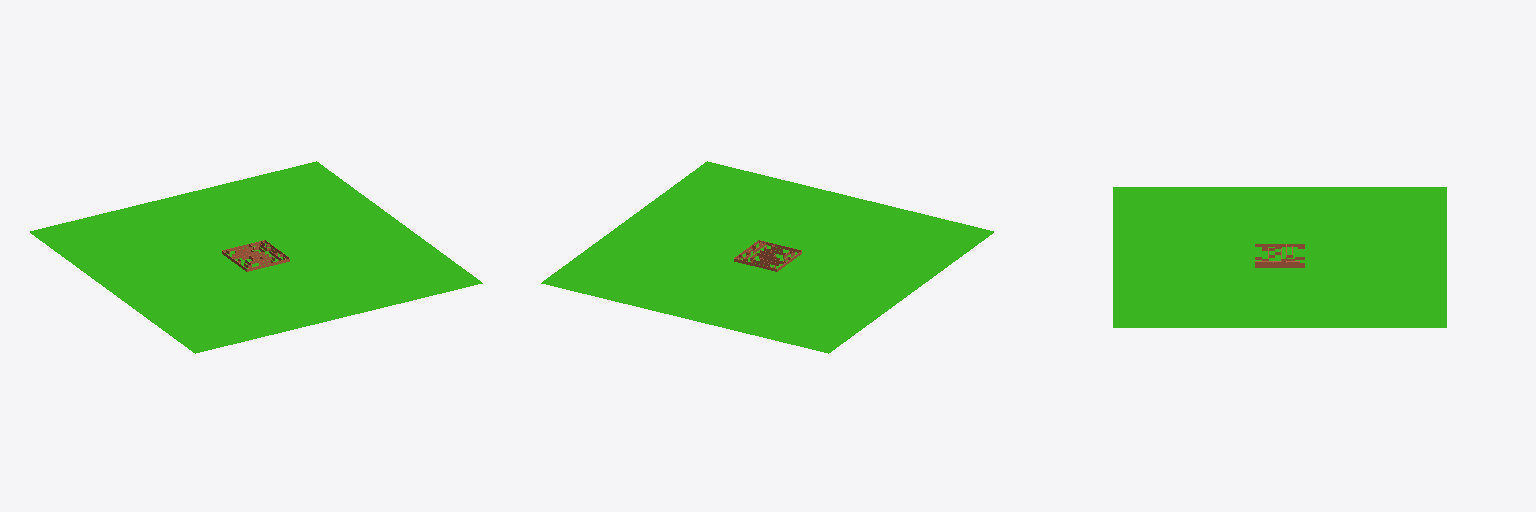
Rendered from testField10.obj.
3 views of the same model, side by side, from view 1: azimuth 30°, elevation 25°; view 2: azimuth 150°, elevation 25°; view 3: azimuth 270°, elevation 25° (orthographic).
Visible parts, largest first — view 1: Plane, kabe.034; view 2: Plane, kabe.034; view 3: Plane, kabe.034.
Boxes of the visible parts, x1=… form: Plane: x1=30, y1=161, x2=482, y2=353; kabe.034: x1=222, y1=240, x2=289, y2=271; Plane: x1=541, y1=161, x2=993, y2=353; kabe.034: x1=734, y1=240, x2=801, y2=271; Plane: x1=1113, y1=187, x2=1446, y2=327; kabe.034: x1=1255, y1=244, x2=1304, y2=267.
Bounding box in the file's own units: 200 × 2 × 200.